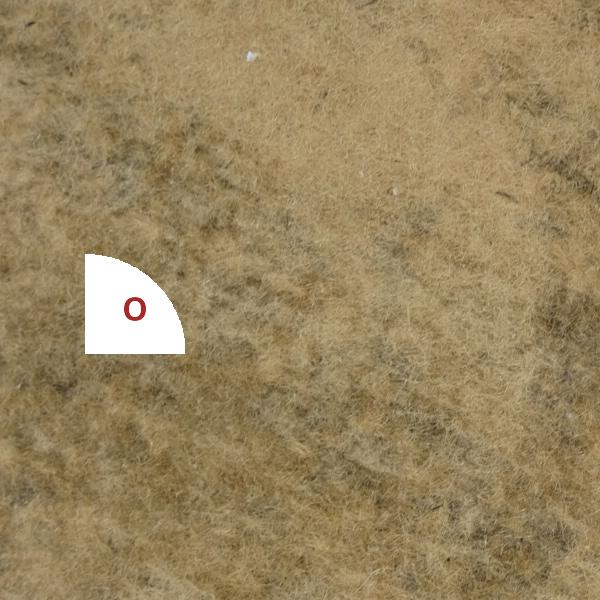QuarterCircle: (85, 254, 185, 354)
